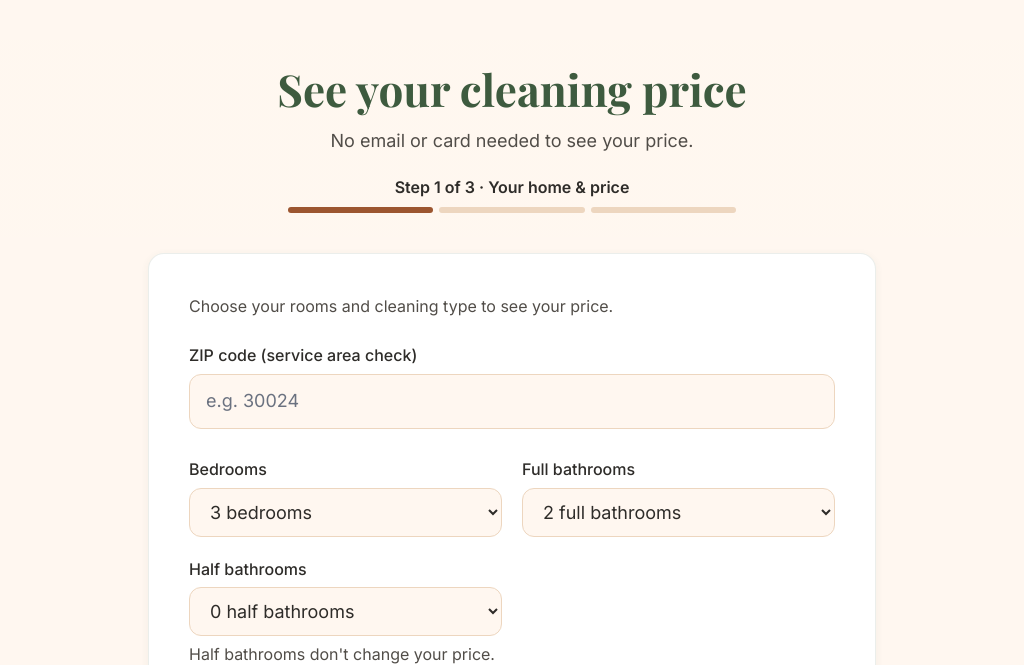
it: quote: cap notice stays off on ordinary prices › adds the add-on at its real price and shows no cap notice
Type "30024" into the field labelled "ZIP code (service area check)" at (512, 401), box [189,374,835,429]
(page scrolled)
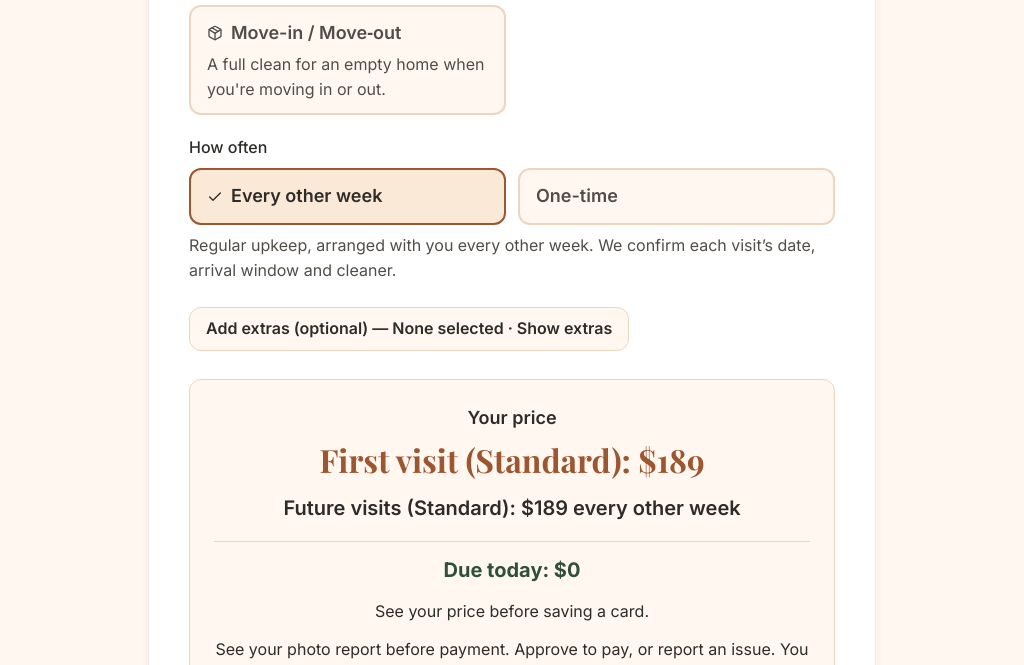
Now the text "First visit (Standard): $189" is shown, box [319,440,705,480]
Click the button "Add extras (optional) — None selected · Show extras" at (409, 328), box [189,306,629,350]
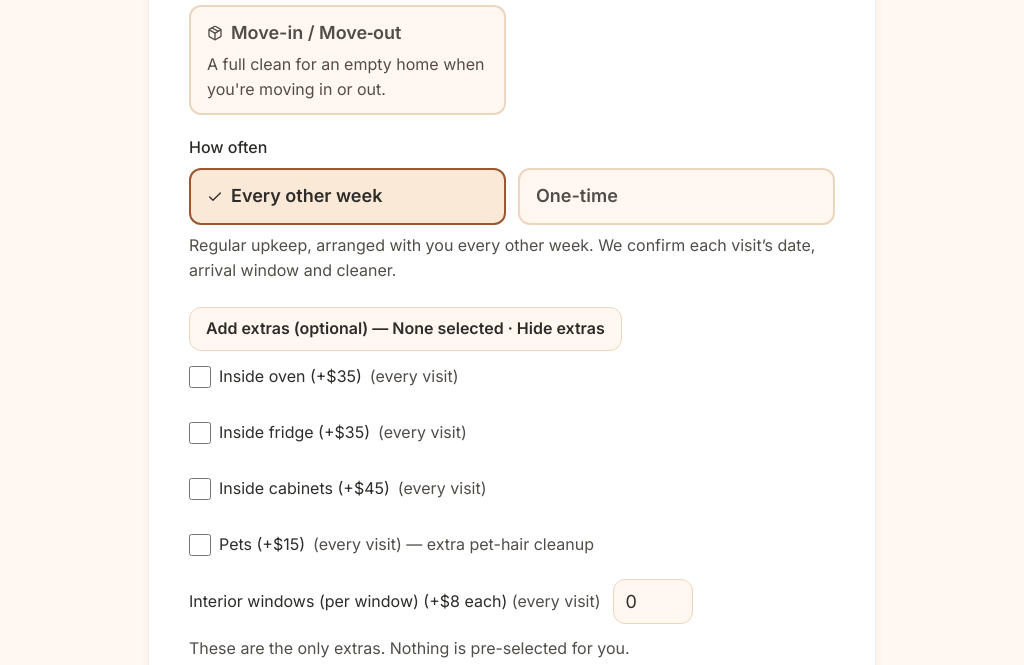
Click the checkbox labelled "Inside oven (+$35) (every visit)" at (200, 376), box [189,366,211,388]
(page scrolled)
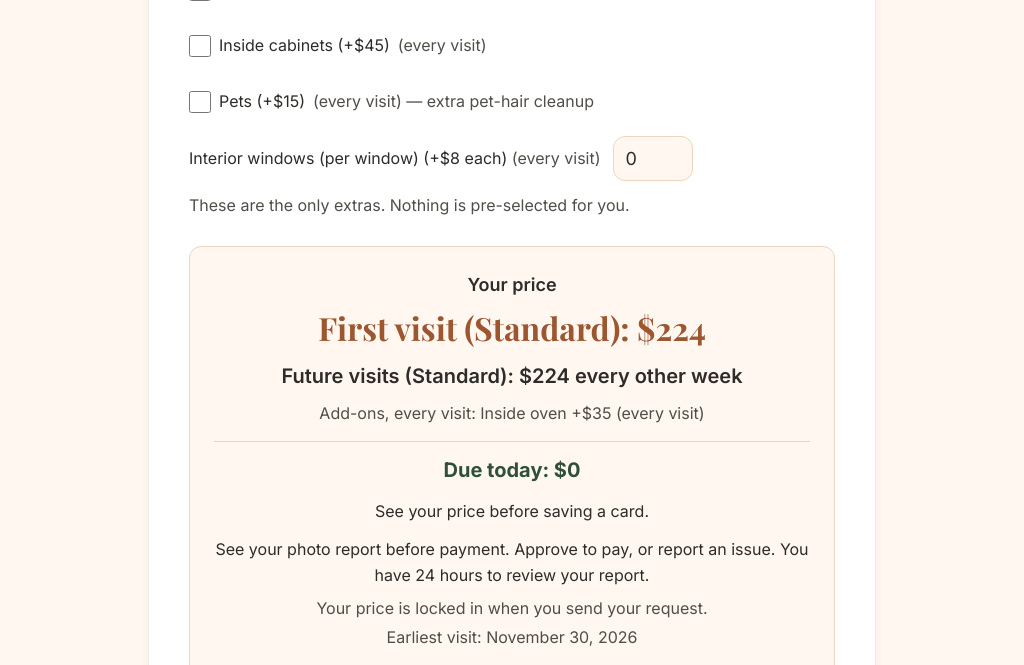
Now the text "First visit (Standard): $224" is shown, box [318,308,706,348]
